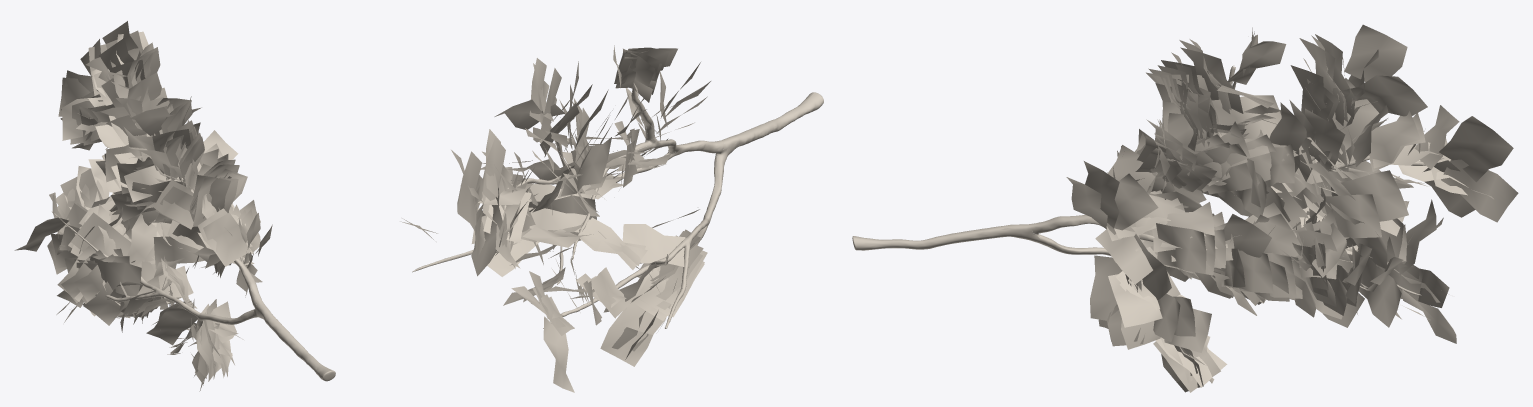
The model's file is tree_cand01.glb.
3 renders of one model, left to right at view 1: azimuth 30°, elevation 25°; view 2: azimuth 150°, elevation 25°; view 3: azimuth 270°, elevation 25°, orthographic. The views are drawn at different scales.
Visible parts, largest first — view 1: world; view 2: world; view 3: world.
Boxes of the visible parts, left/top/right/bottom form: world: left=14, top=21, right=335, bottom=391; world: left=400, top=45, right=823, bottom=392; world: left=852, top=24, right=1518, bottom=392.
Bounding box in the file's own units: 0.8455 × 1.1 × 1.76.
